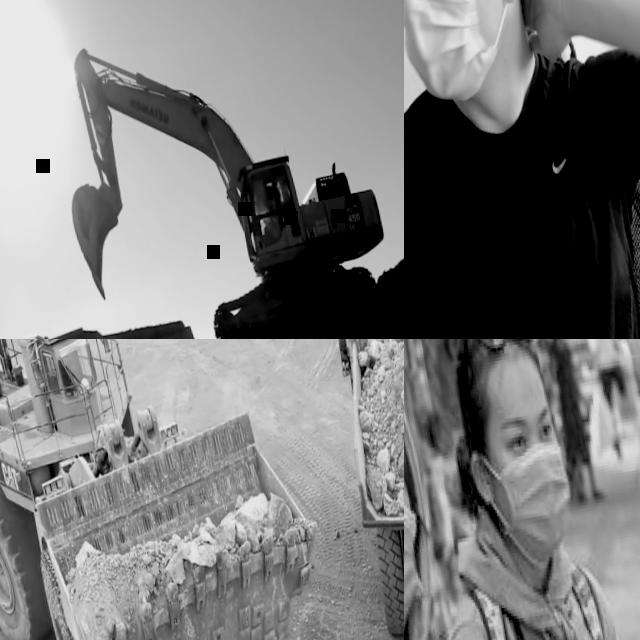machinery: (47, 2, 398, 339), (0, 339, 350, 640), (320, 339, 404, 640)
mask: (404, 0, 530, 108), (492, 442, 582, 576), (404, 486, 434, 640)
no_helmet: (445, 339, 546, 412)
no_vest: (404, 45, 640, 339), (459, 573, 630, 640), (549, 339, 581, 410), (588, 339, 619, 365)
person: (404, 0, 640, 339), (404, 339, 640, 640), (404, 339, 482, 640), (542, 339, 608, 508), (580, 339, 639, 471), (256, 190, 286, 242)
